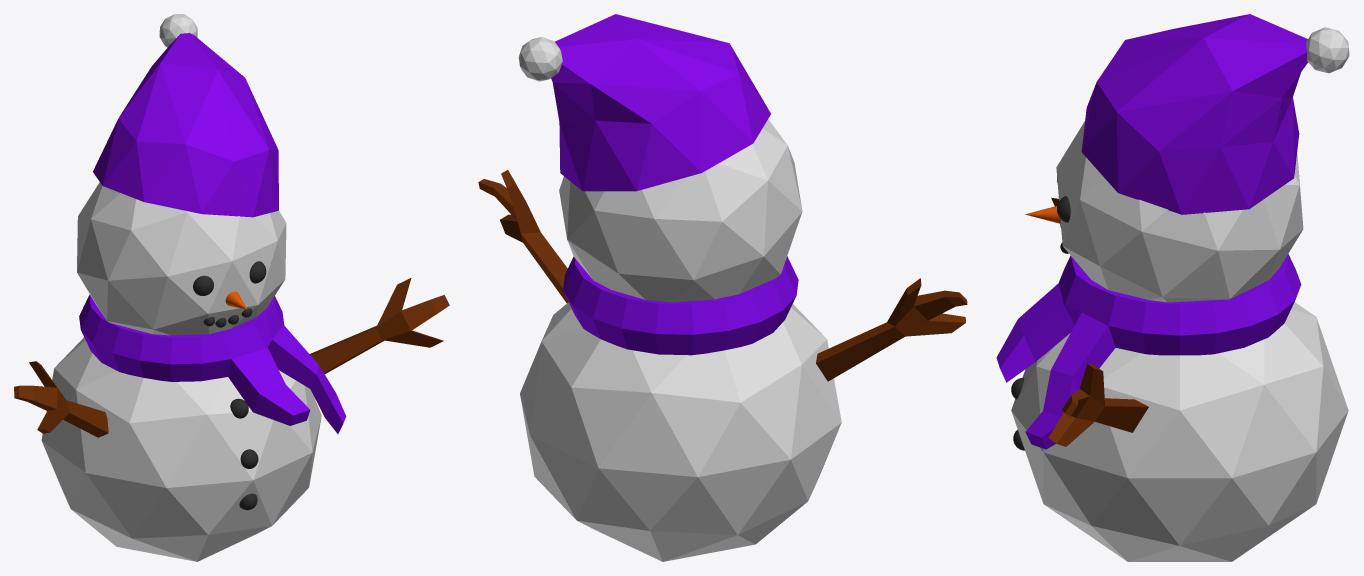
3 renders of one model, left to right at view 1: azimuth 30°, elevation 25°; view 2: azimuth 150°, elevation 25°; view 3: azimuth 270°, elevation 25°, orthographic. The views are drawn at different scales.
Visible parts, largest first — view 1: object 1, object 6, object 2, Torus.002_3, object 7, object 4, object 8; view 2: object 1, object 6, object 2, Torus.002_3, object 7, object 8; view 3: object 1, object 6, object 2, Torus.002_3, object 7, object 8, object 4.
Boxes of the visible parts, x1=… form: object 1: x1=41, y1=337, x2=321, y2=561; object 6: x1=93, y1=33, x2=278, y2=217; object 2: x1=77, y1=182, x2=286, y2=335; Torus.002_3: x1=79, y1=294, x2=346, y2=433; object 7: x1=14, y1=278, x2=449, y2=437; object 4: x1=193, y1=261, x2=266, y2=510; object 8: x1=159, y1=14, x2=197, y2=47; object 1: x1=520, y1=302, x2=841, y2=561; object 6: x1=551, y1=14, x2=770, y2=191; object 2: x1=559, y1=119, x2=802, y2=302; Torus.002_3: x1=563, y1=256, x2=798, y2=355; object 7: x1=478, y1=170, x2=967, y2=381; object 8: x1=518, y1=37, x2=562, y2=81; object 1: x1=1011, y1=302, x2=1348, y2=561; object 6: x1=1081, y1=14, x2=1308, y2=214; object 2: x1=1056, y1=121, x2=1303, y2=302; Torus.002_3: x1=996, y1=254, x2=1301, y2=449; object 7: x1=1048, y1=197, x2=1148, y2=446; object 8: x1=1306, y1=27, x2=1349, y2=73; object 4: x1=1011, y1=177, x2=1070, y2=450.
Bounding box in the file's own units: 3.47 × 3.64 × 2.09.
